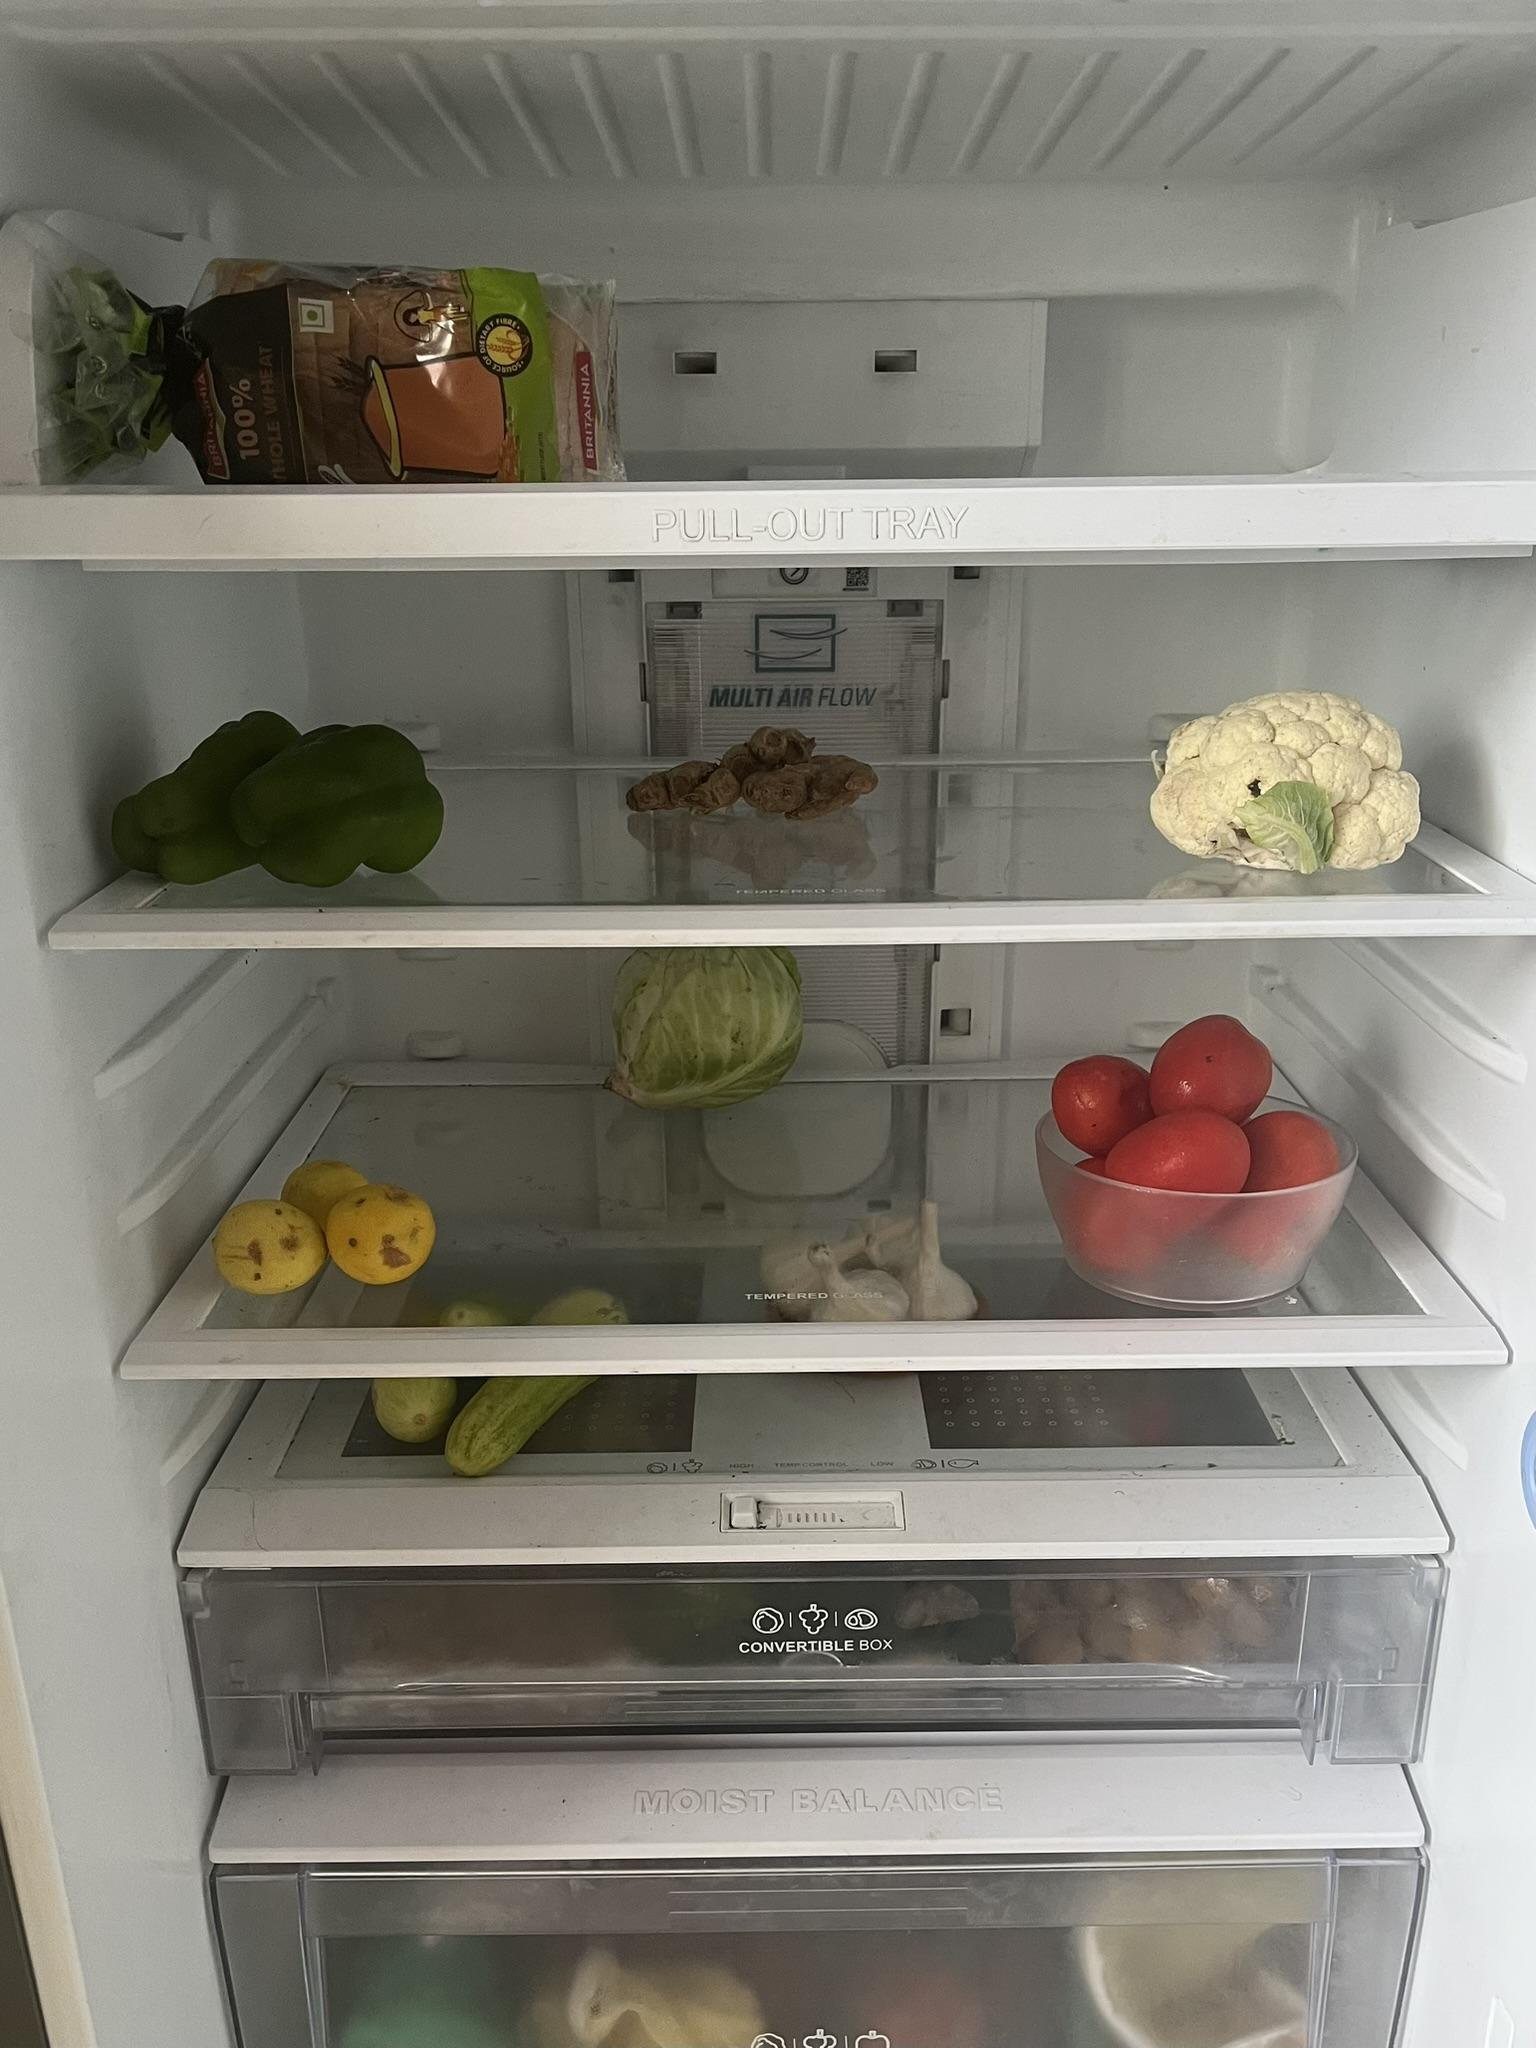bread: (47, 240, 627, 500)
cabbage: (600, 950, 810, 1113)
capsicum: (93, 697, 460, 900)
cauliflower: (1150, 687, 1427, 887)
cucumber: (383, 1290, 653, 1487)
garlic: (750, 1197, 993, 1330)
ginger: (617, 723, 890, 830)
lemon: (210, 1153, 437, 1293)
tomato: (1043, 1010, 1343, 1287)
